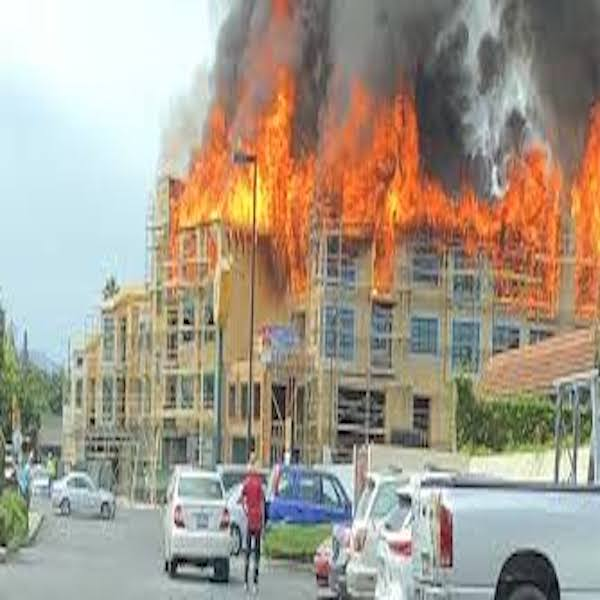fire: (269, 66, 600, 242), (175, 109, 268, 236), (502, 246, 600, 319), (375, 242, 393, 296)
